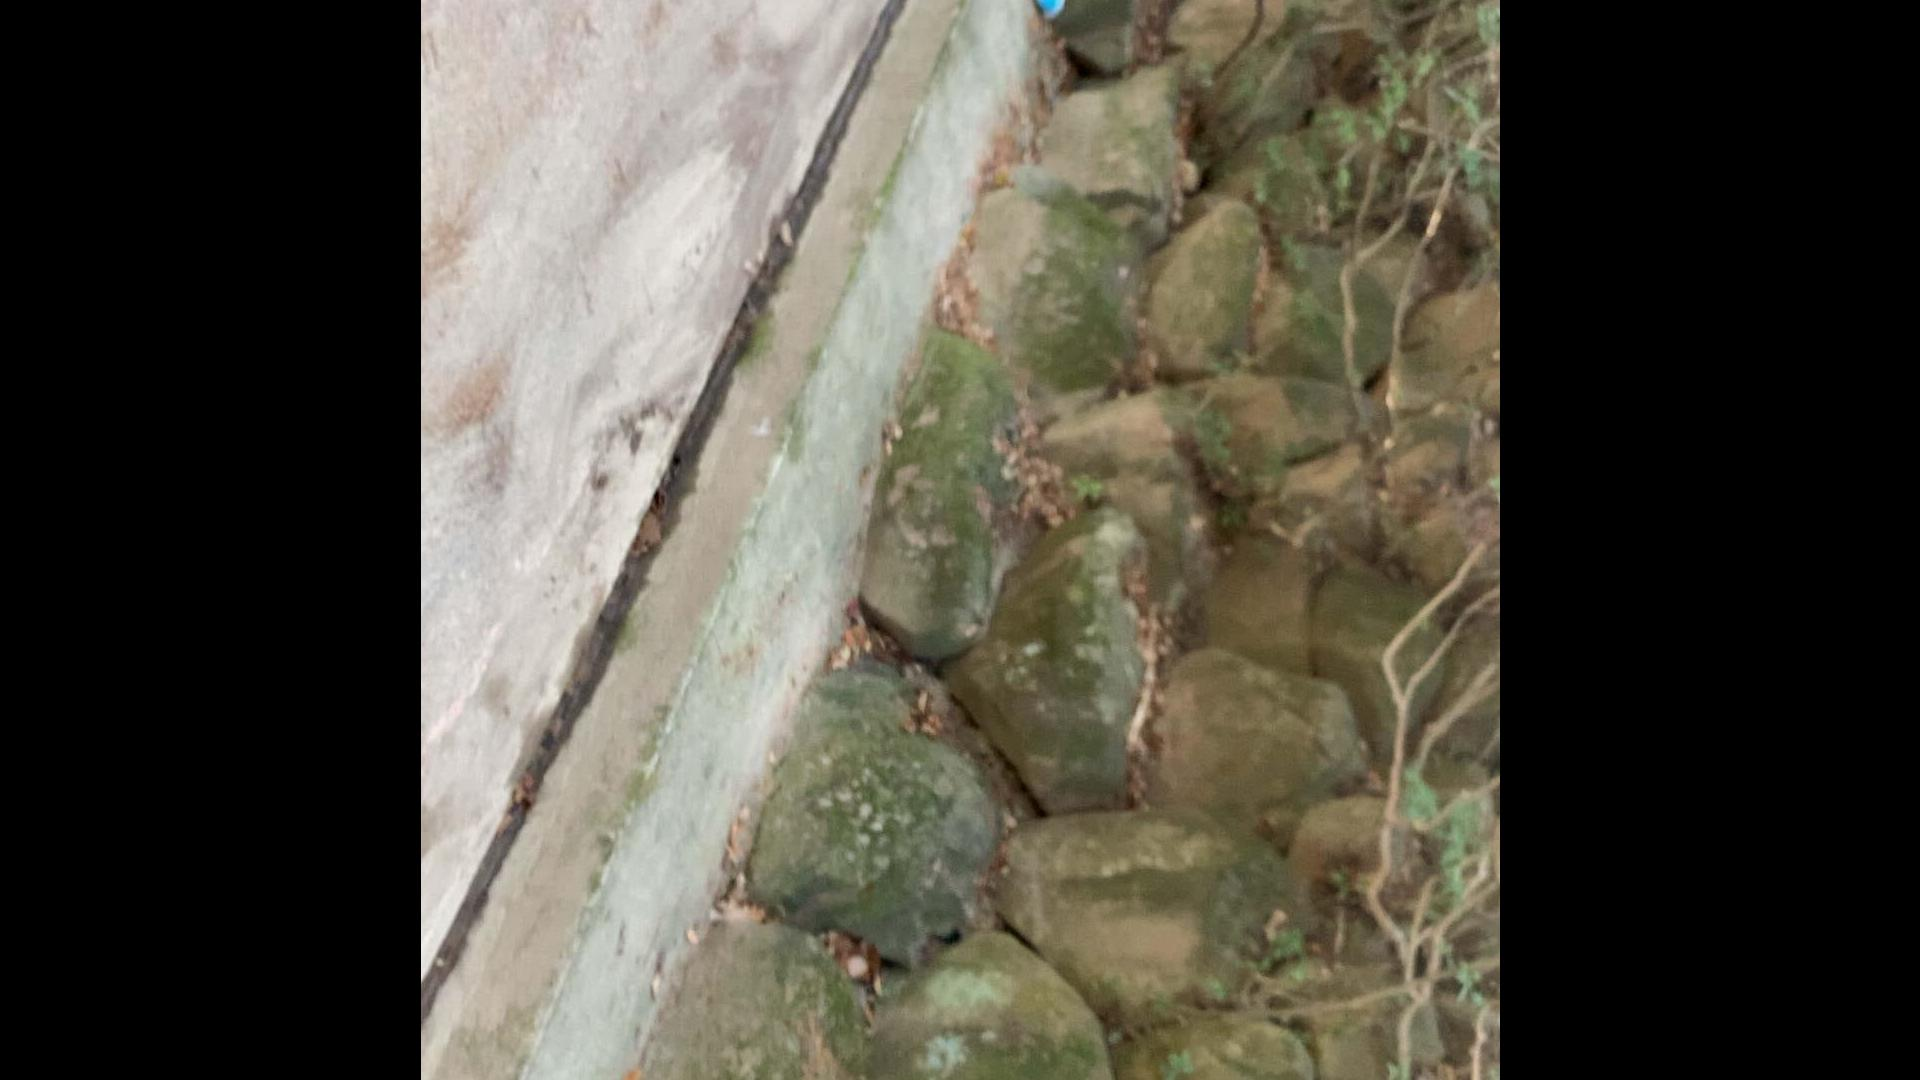white_bag: (1019, 0, 1087, 28)
